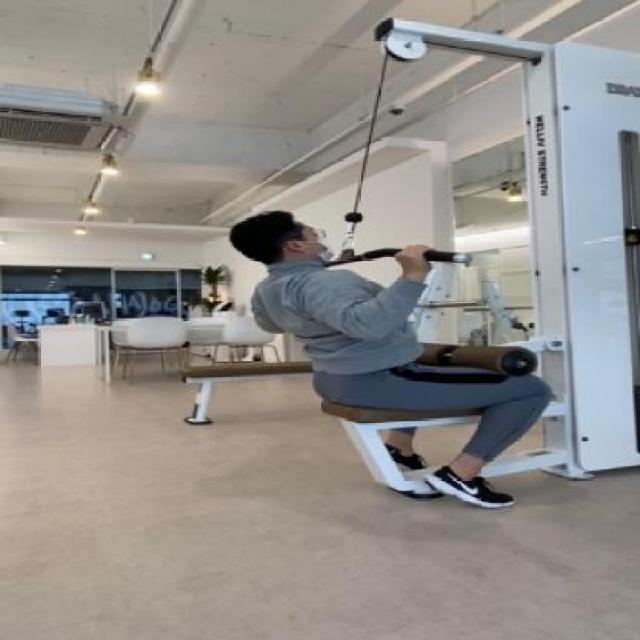Lat Pull Down: (158, 3, 640, 520)
